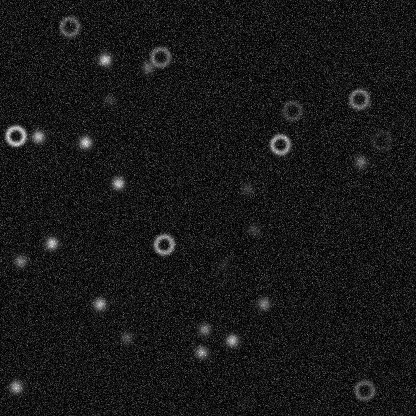Ring: (148, 44, 172, 68), (151, 232, 175, 256), (3, 123, 27, 147), (268, 132, 292, 156), (57, 14, 81, 38), (280, 98, 304, 122), (352, 378, 376, 402), (347, 86, 371, 110), (369, 128, 393, 152)
Spot: (246, 222, 262, 238), (101, 91, 117, 107), (43, 235, 59, 251), (118, 329, 134, 345), (196, 321, 212, 337), (109, 175, 125, 191), (77, 134, 93, 150), (255, 295, 271, 311), (352, 153, 368, 169), (193, 344, 209, 360), (96, 51, 112, 67), (139, 59, 155, 75), (12, 253, 28, 269), (215, 255, 231, 271), (7, 378, 23, 394), (30, 128, 46, 144), (223, 332, 239, 348), (239, 181, 255, 197), (91, 295, 107, 311)
